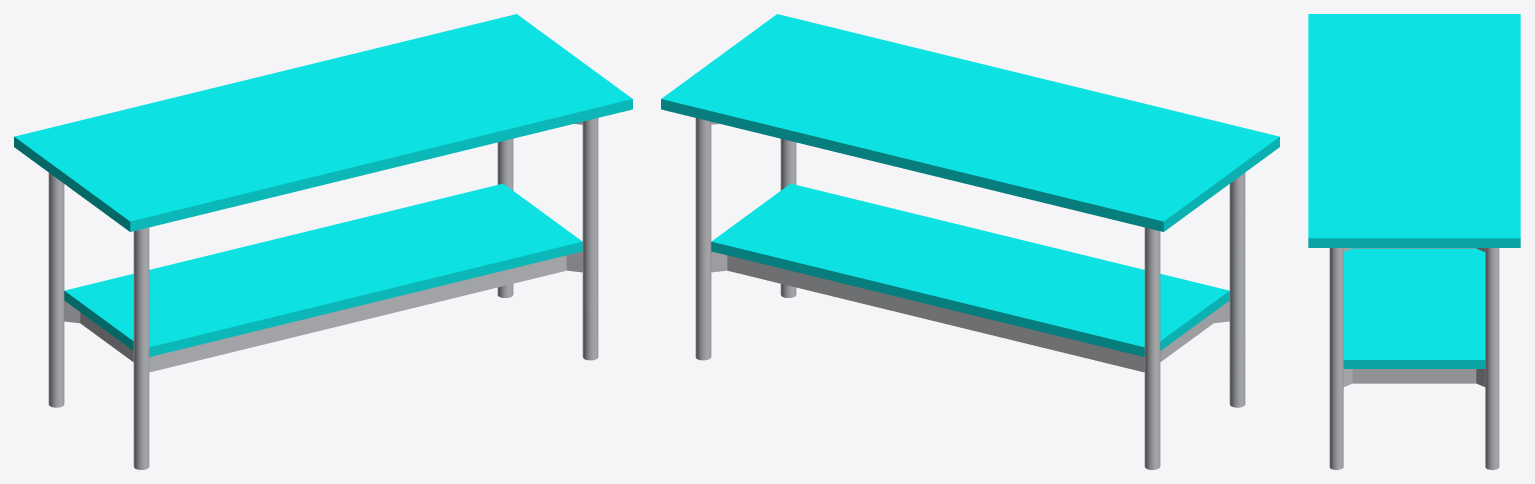
The picture shows the model from 3 angles, left to right: view 1: azimuth 30°, elevation 25°; view 2: azimuth 150°, elevation 25°; view 3: azimuth 270°, elevation 25°; orthographic projection. The views are drawn at different scales.
Parts seen in each view (by area): view 1: _505-365.dwg (×7); view 2: _505-365.dwg (×7); view 3: _505-365.dwg (×5).
Part boxes in pixels (left/top/right/bottom): _505-365.dwg (×7): left=14, top=14, right=632, bottom=469; _505-365.dwg (×7): left=661, top=14, right=1279, bottom=469; _505-365.dwg (×5): left=1308, top=14, right=1520, bottom=469.
Bounding box in the file's own units: 59.06 × 23.62 × 29.53.
